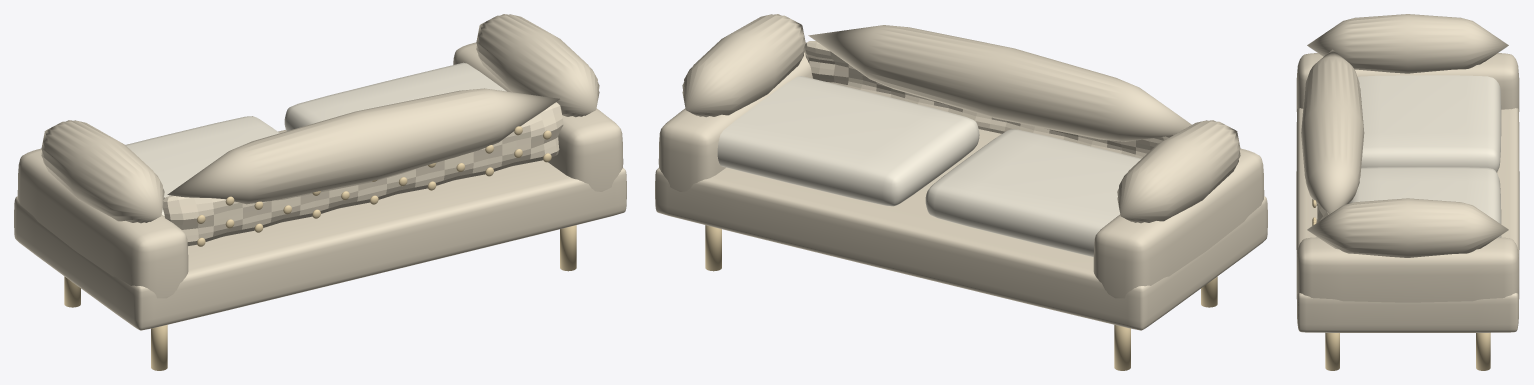
Rendered from sofa.glb.
3 renders of one model, left to right at view 1: azimuth 30°, elevation 25°; view 2: azimuth 150°, elevation 25°; view 3: azimuth 270°, elevation 25°, orthographic. The views are drawn at different scales.
Parts seen in each view (by area): view 1: base, backroll, back, armbody, arm, arm.001, cushion.001, cushion, armbody.001, leg, leg.002; view 2: base, cushion.001, backroll, cushion, armbody, arm, arm.001, armbody.001, back, leg.001, leg.003; view 3: cushion, base, armbody.001, arm.001, arm, backroll, cushion.001, armbody, leg.002, leg.003.
Part boxes in pixels (x1=…): base: x1=14, y1=129, x2=626, y2=330; backroll: x1=167, y1=88, x2=559, y2=204; back: x1=163, y1=102, x2=563, y2=246; armbody: x1=17, y1=148, x2=188, y2=298; arm: x1=41, y1=120, x2=164, y2=223; arm.001: x1=476, y1=14, x2=599, y2=117; cushion.001: x1=284, y1=62, x2=506, y2=130; cushion: x1=126, y1=116, x2=279, y2=215; armbody.001: x1=453, y1=42, x2=623, y2=191; leg: x1=151, y1=325, x2=167, y2=370; leg.002: x1=560, y1=225, x2=576, y2=271; base: x1=655, y1=129, x2=1267, y2=330; cushion.001: x1=717, y1=76, x2=979, y2=206; backroll: x1=808, y1=25, x2=1191, y2=141; cushion: x1=925, y1=129, x2=1141, y2=256; armbody: x1=1093, y1=148, x2=1264, y2=298; arm: x1=1117, y1=120, x2=1240, y2=223; arm.001: x1=682, y1=14, x2=805, y2=117; armbody.001: x1=658, y1=42, x2=812, y2=191; back: x1=804, y1=41, x2=1173, y2=158; leg.001: x1=1114, y1=325, x2=1130, y2=370; leg.003: x1=705, y1=225, x2=721, y2=271; cushion: x1=1357, y1=75, x2=1501, y2=172; base: x1=1296, y1=108, x2=1519, y2=332; armbody.001: x1=1296, y1=237, x2=1519, y2=302; arm.001: x1=1307, y1=198, x2=1508, y2=257; arm: x1=1307, y1=14, x2=1508, y2=73; backroll: x1=1301, y1=49, x2=1364, y2=213; cushion.001: x1=1348, y1=167, x2=1501, y2=237; armbody: x1=1296, y1=53, x2=1519, y2=111; leg.002: x1=1325, y1=333, x2=1339, y2=370; leg.003: x1=1476, y1=333, x2=1490, y2=370.
Size of the model in its own units: 1.92 by 0.7517 by 0.8593.
